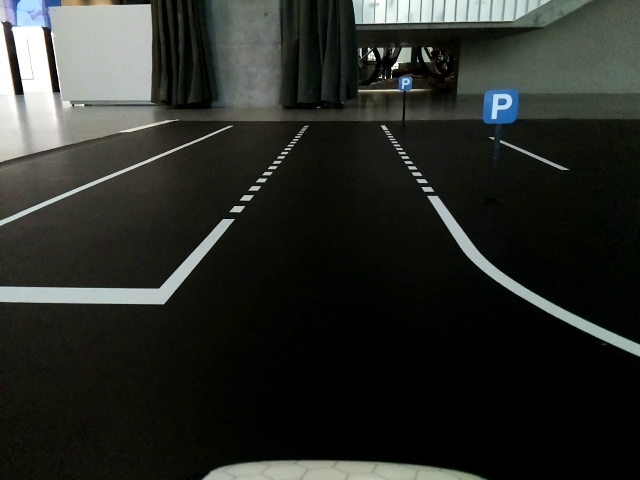park: (483, 90, 516, 124), (400, 75, 413, 90)
